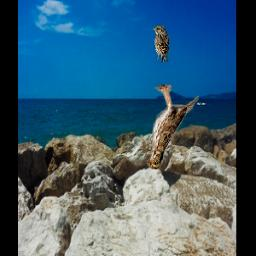Sparrow: (148, 86, 200, 170), (152, 25, 170, 63)
